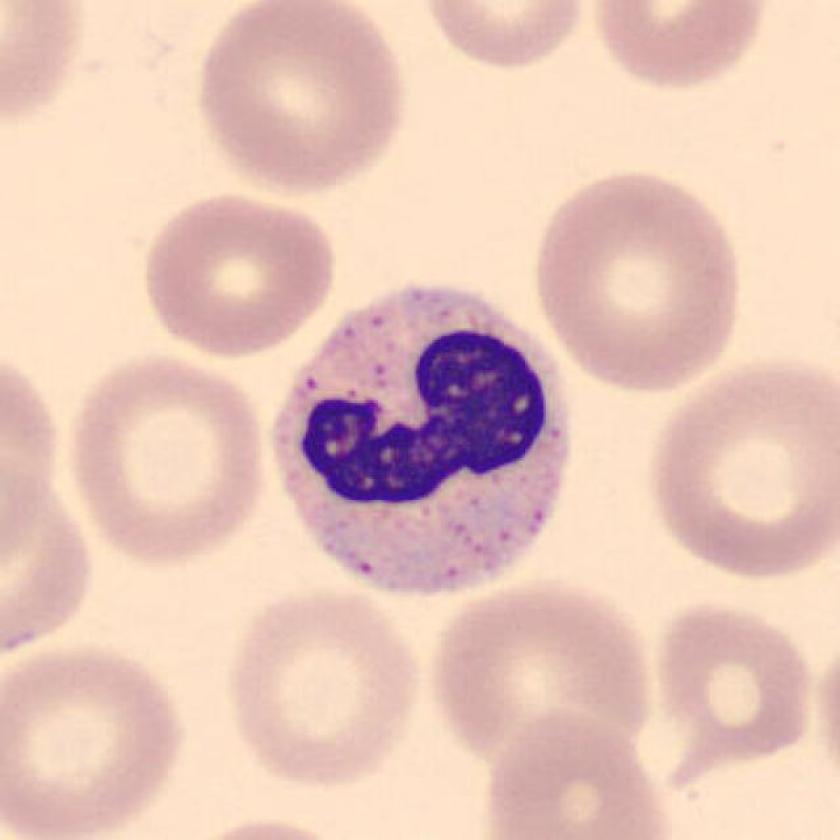neutrophil: (274, 283, 572, 597)
